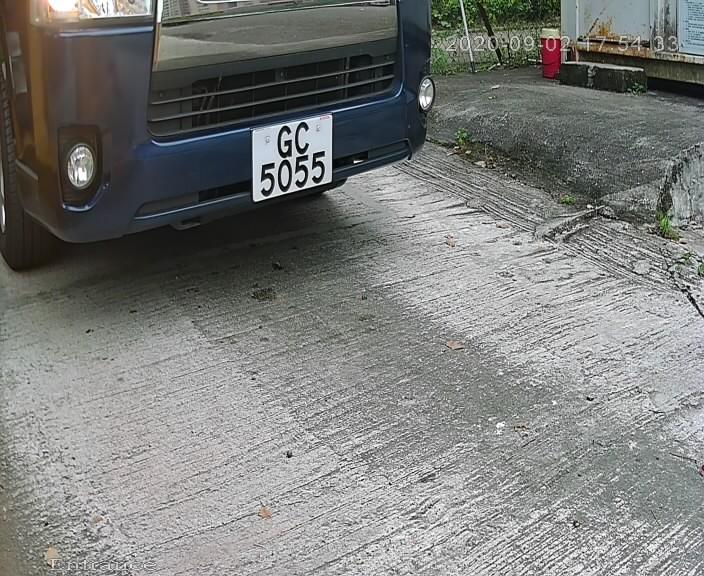License Plate: (239, 109, 343, 206)
